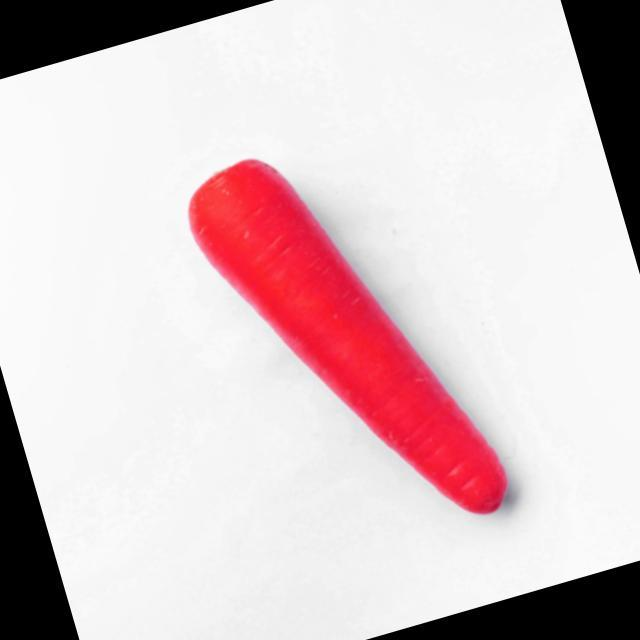carrot: (189, 160, 506, 513)
